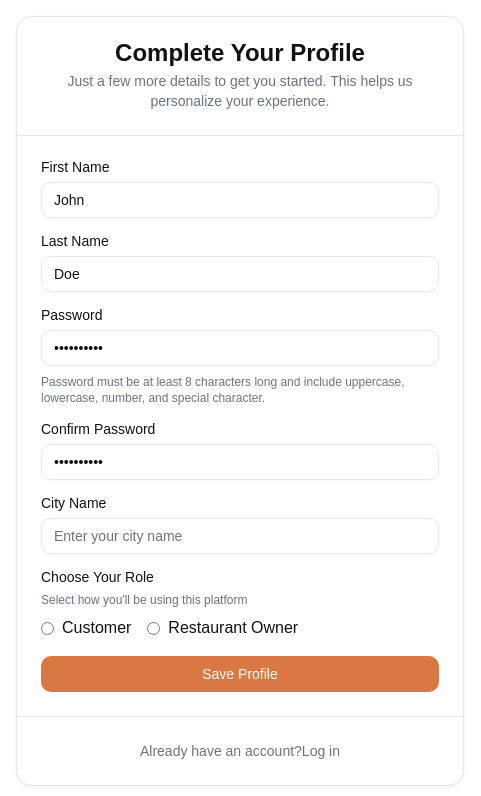
it: Create Account - Set Profile Page › role validation error is shown and cleared when selecting a role, and city name error clears on input
Click the button "Save Profile" at (240, 674), box [41,656,439,692]
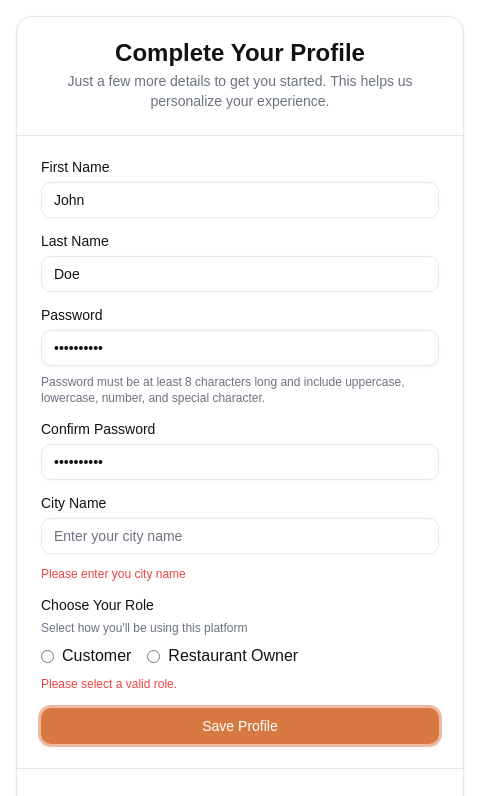
Expected: the text "Please select a valid role." is shown, [41,677,177,691]
Click the radio button labelled "Restaurant Owner" at (154, 656), box [147,650,160,662]
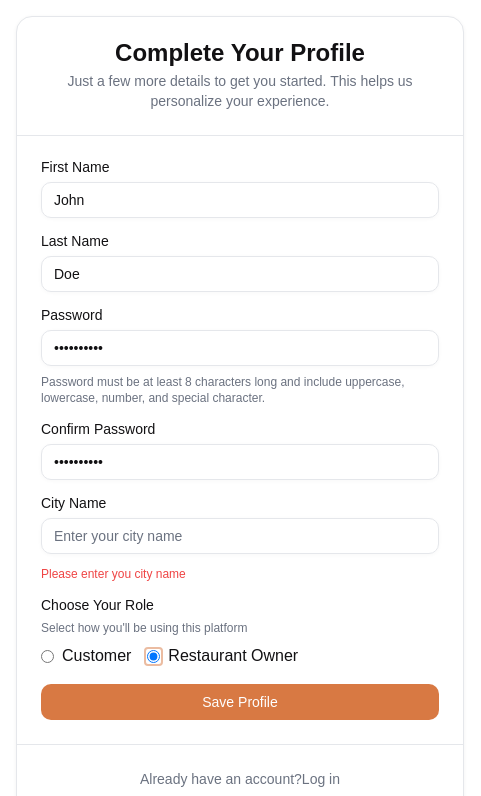
Expected: the text "Please enter you city name" is shown, [41,567,186,581]
Expected: the text "Please select a valid role" is gone
Type "Mumbai" into the field labelled "City Name" at (240, 536), box [41,518,439,554]
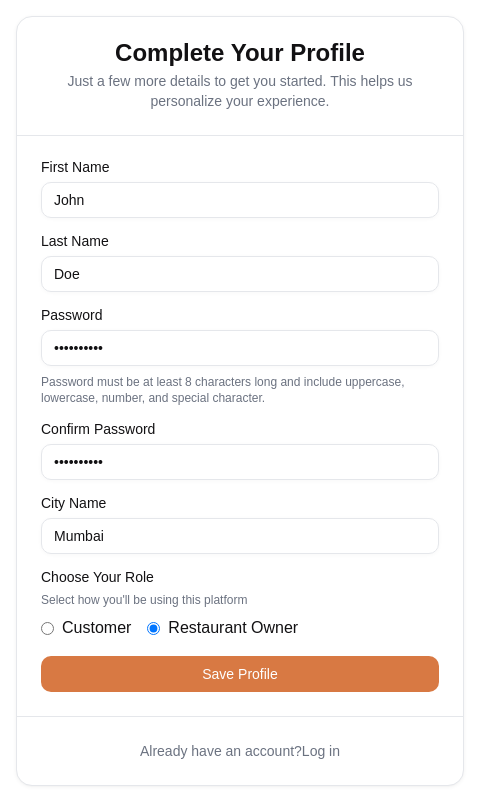
Expected: the text "Please enter you city name" is gone
